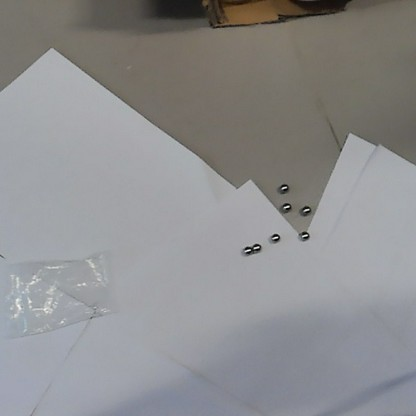ironball: (279, 199, 292, 214), (298, 204, 311, 216), (277, 179, 288, 193), (269, 231, 281, 243), (299, 229, 310, 242), (251, 241, 262, 253), (241, 245, 251, 256)
